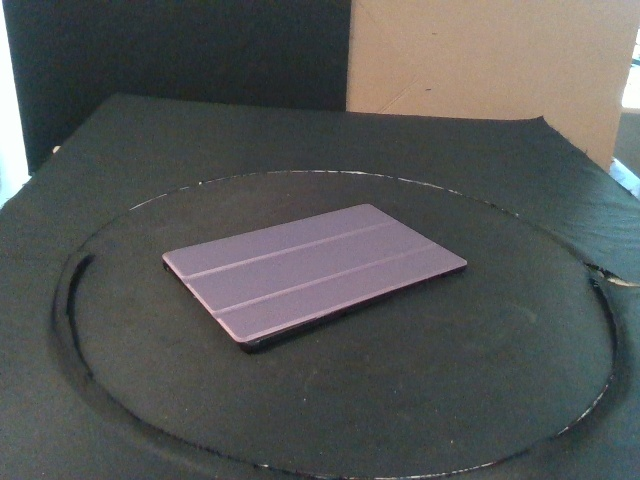laptop: (162, 203, 468, 354)
